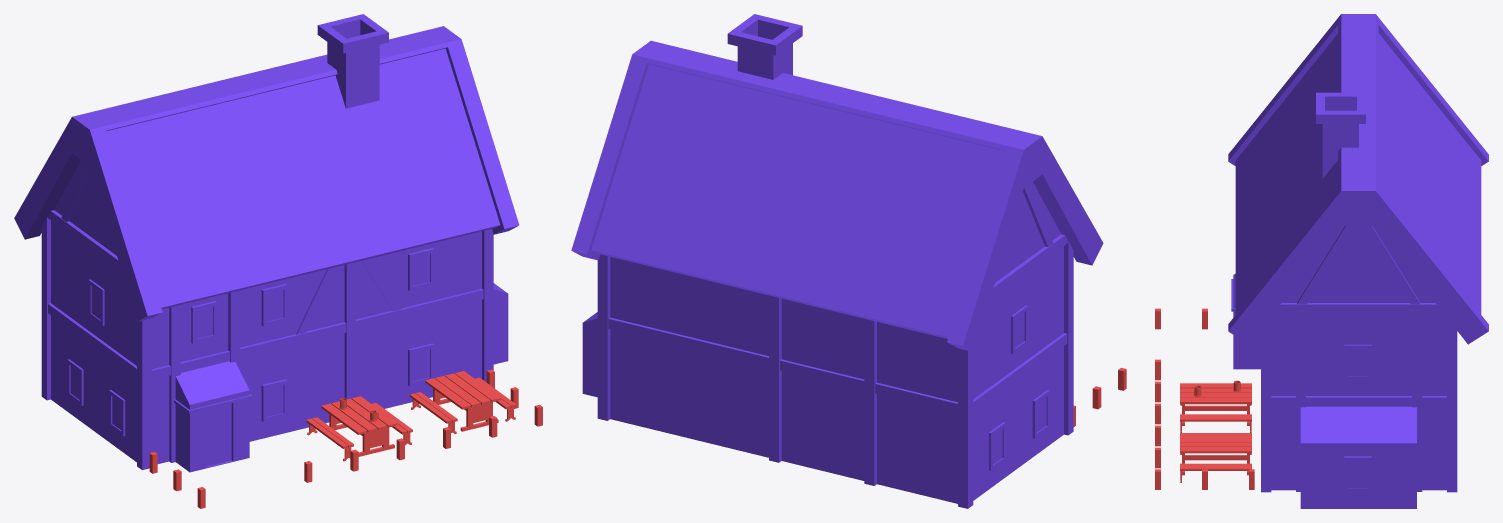
File: OutsourceMedievalTavern_low.fbx
3 renders of one model, left to right at view 1: azimuth 30°, elevation 25°; view 2: azimuth 150°, elevation 25°; view 3: azimuth 270°, elevation 25°, orthographic. The views are drawn at different scales.
Parts seen in each view (by area): view 1: M_HouseBody, M_Table_1, M_Table_2, M_Fenceposts; view 2: M_HouseBody; view 3: M_HouseBody, M_Table_1, M_Table_2, M_Fenceposts.
Part boxes in pixels (<box>): M_HouseBody: <box>14,14,519,472</box>; M_Table_1: <box>409,371,516,434</box>; M_Table_2: <box>306,396,412,461</box>; M_Fenceposts: <box>149,369,542,508</box>; M_HouseBody: <box>571,14,1103,508</box>; M_HouseBody: <box>1228,14,1488,508</box>; M_Table_1: <box>1180,433,1251,482</box>; M_Table_2: <box>1180,383,1251,432</box>; M_Fenceposts: <box>1155,308,1254,489</box>.
Size of the model in its own units: 16.9 by 14.12 by 12.51.
